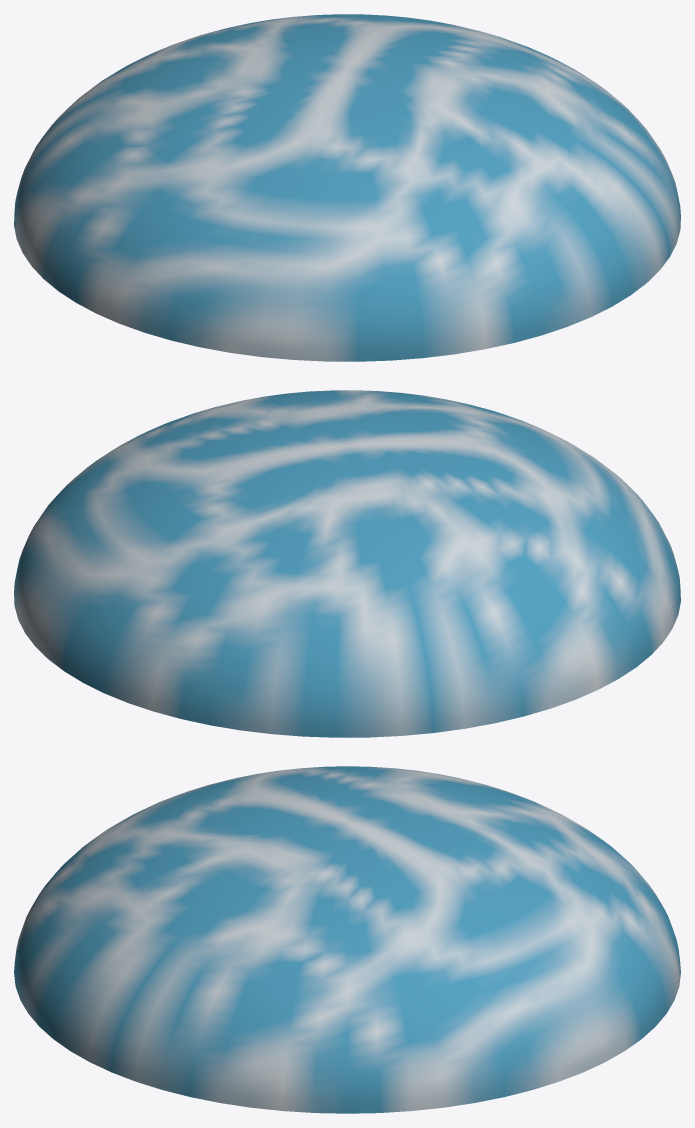
Rendered from larimar.glb.
3 renders of one model, top to bottom at view 1: azimuth 30°, elevation 25°; view 2: azimuth 150°, elevation 25°; view 3: azimuth 270°, elevation 25°, orthographic.
Parts seen in each view (by area): view 1: larimar; view 2: larimar; view 3: larimar.
Part boxes in pixels (x1,y1,x2,y2): larimar: (14,14,680,361); larimar: (14,390,680,737); larimar: (14,766,680,1113).
Bounding box in the file's own units: 0.25 × 0.0625 × 0.25.
